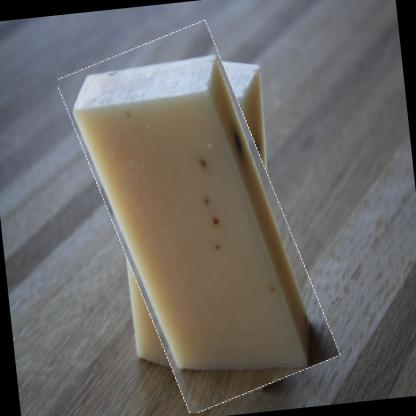soap: (74, 19, 320, 414)
